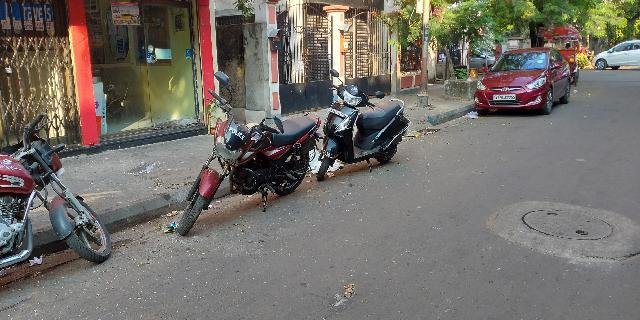Car: (468, 47, 576, 114)
Motorbike: (166, 99, 317, 236), (1, 133, 115, 281), (317, 80, 409, 177)
